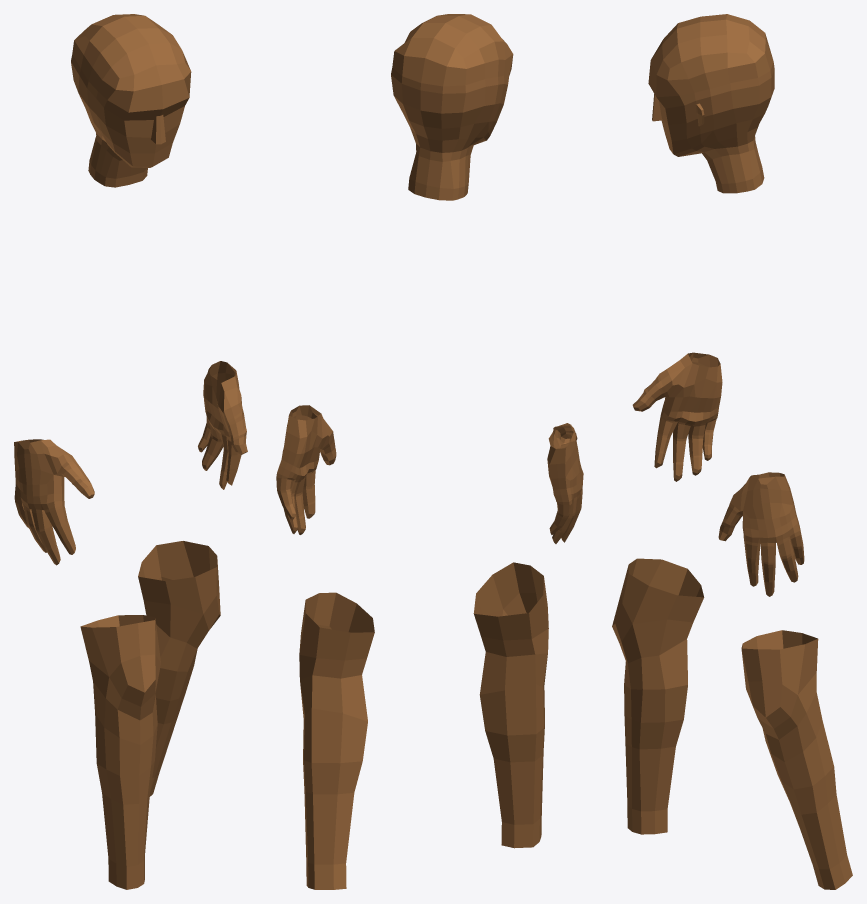
Rendered from Skin.obj.
3 views of the same model, side by side, from view 1: azimuth 30°, elevation 25°; view 2: azimuth 150°, elevation 25°; view 3: azimuth 270°, elevation 25° (orthographic).
Bounding box in the file's own units: 0.5484 × 1.73 × 0.4551.
